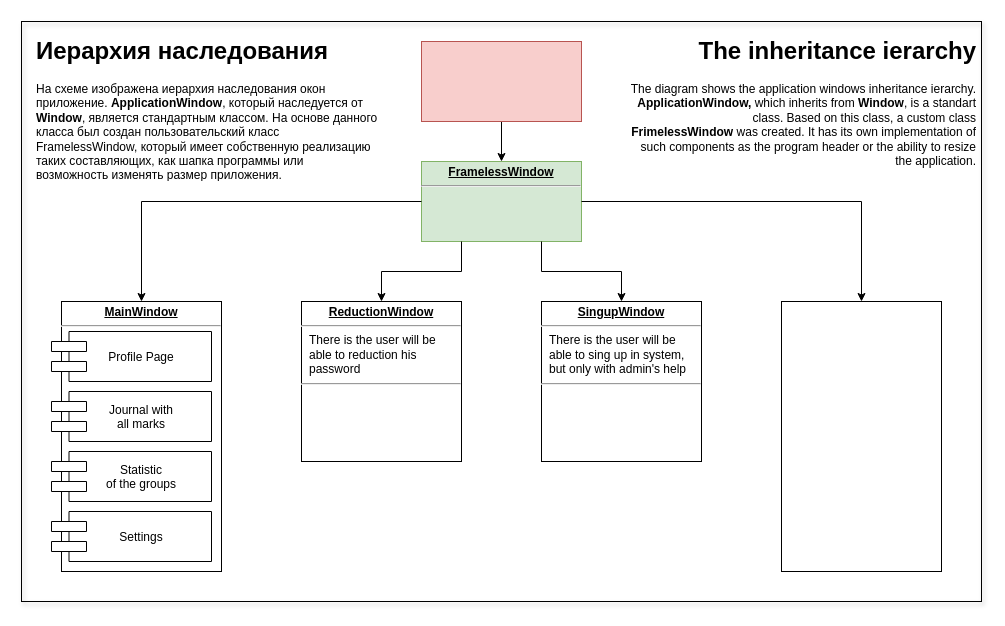
The diagram is 1005 pixels wide and 626 high, and some of its shapes have lost their labels. The centre of each missing label's shape, as x and y in pixels:
ApplicationWindow: the point at 501,81
SinginWindow There is the user will be able to sing in: the point at 861,436
